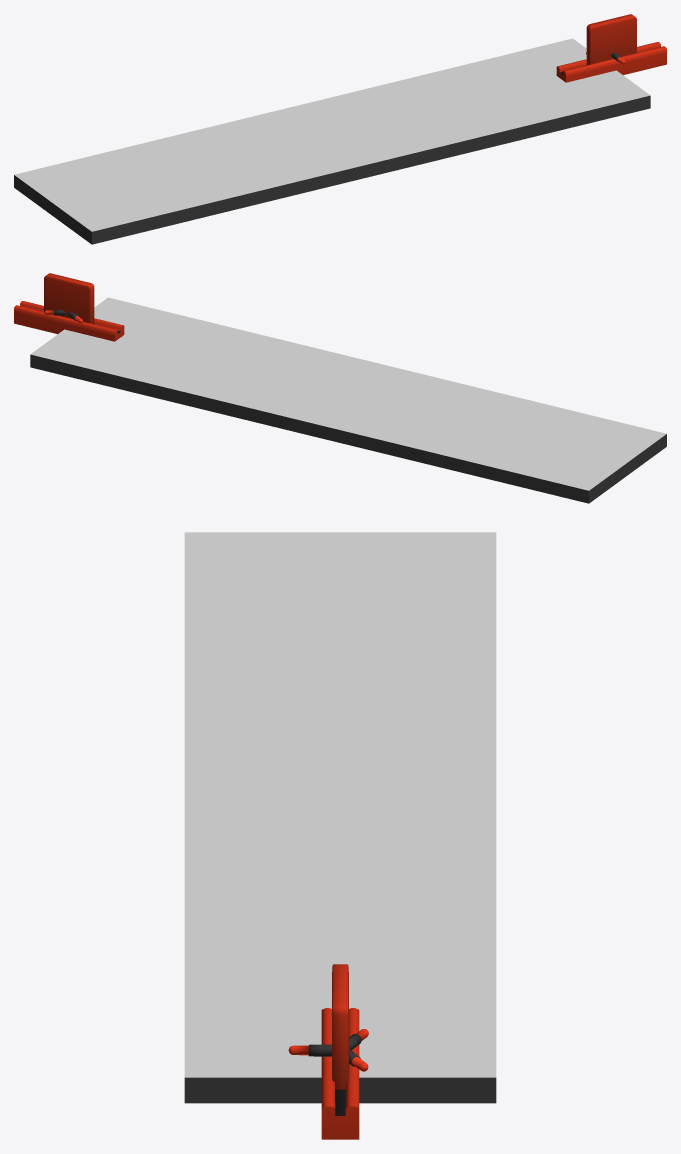
The model's file is obstacle.fbx.
3 renders of one model, top to bottom at view 1: azimuth 30°, elevation 25°; view 2: azimuth 150°, elevation 25°; view 3: azimuth 270°, elevation 25°, orthographic. The views are drawn at different scales.
Visible parts, largest first — view 1: path, wall, saw_ground; view 2: path, saw_ground, wall; view 3: path, saw_ground, wall, propeller.
Boxes of the visible parts, bbox=[...] form: path: bbox=[14, 38, 650, 244]; wall: bbox=[586, 14, 636, 65]; saw_ground: bbox=[556, 42, 666, 82]; path: bbox=[30, 297, 666, 503]; saw_ground: bbox=[14, 301, 124, 341]; wall: bbox=[44, 273, 94, 324]; path: bbox=[184, 532, 496, 1103]; saw_ground: bbox=[321, 1008, 359, 1139]; wall: bbox=[332, 964, 348, 1089]; propeller: bbox=[288, 1029, 368, 1071].
Size of the model in its own units: 3298 by 307 by 731.
